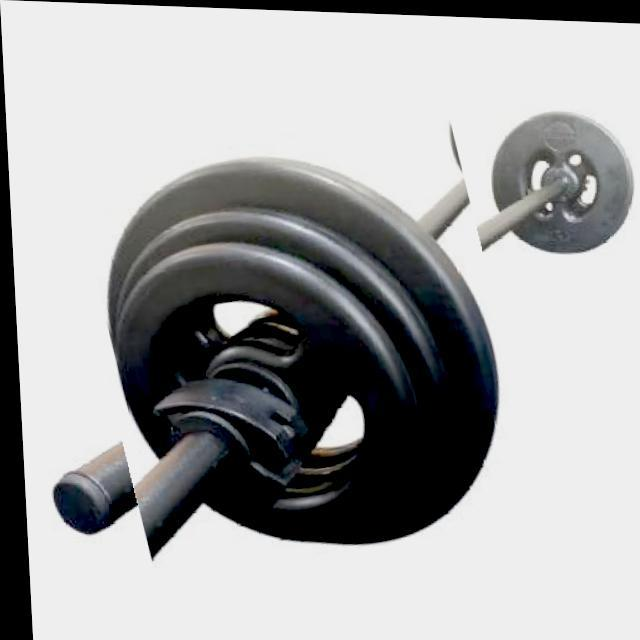barbell: (74, 122, 531, 594)
